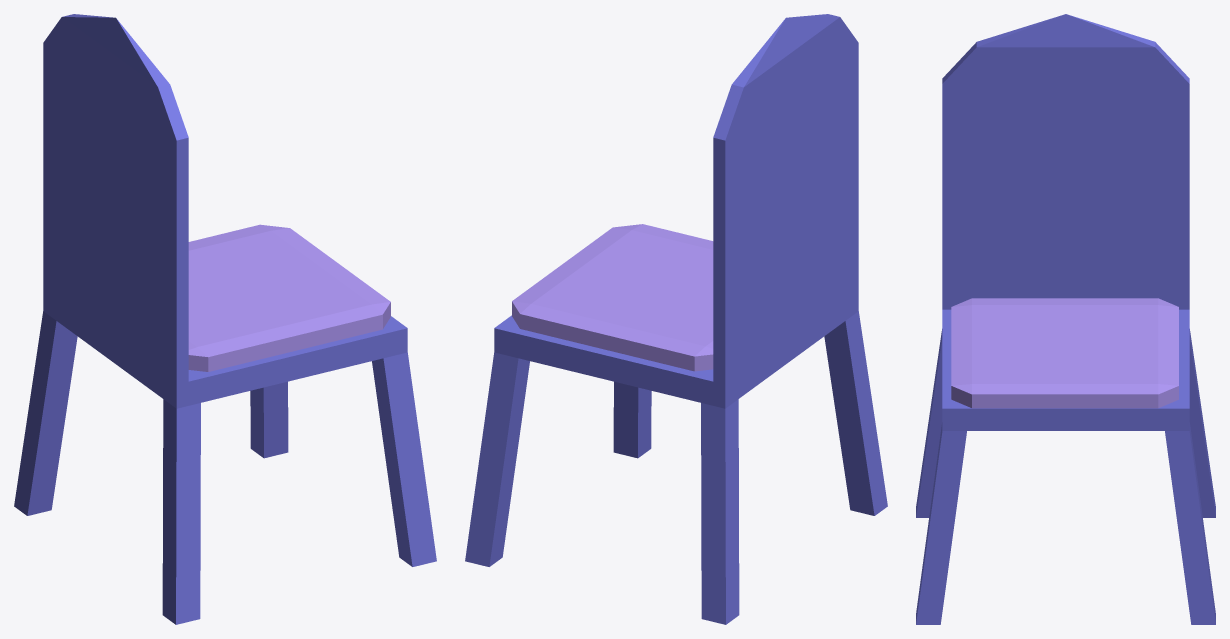
Rendered from chair3.fbx.
3 views of the same model, side by side, from view 1: azimuth 30°, elevation 25°; view 2: azimuth 150°, elevation 25°; view 3: azimuth 270°, elevation 25° (orthographic). The views are drawn at different scales.
Visible parts, largest first — view 1: Cube, Cube.004, Cube.002; view 2: Cube, Cube.004, Cube.002; view 3: Cube, Cube.002, Cube.004.
Part boxes in pixels (x1,y1,x2,y2): Cube: (43,14,407,408); Cube.004: (14,311,436,624); Cube.002: (188,224,390,371); Cube: (494,14,858,408); Cube.004: (465,311,887,624); Cube.002: (512,224,713,371); Cube: (942,14,1189,430); Cube.002: (951,298,1178,408); Cube.004: (916,329,1215,624).
Bounding box in the file's own units: 634 × 1260 × 682.
